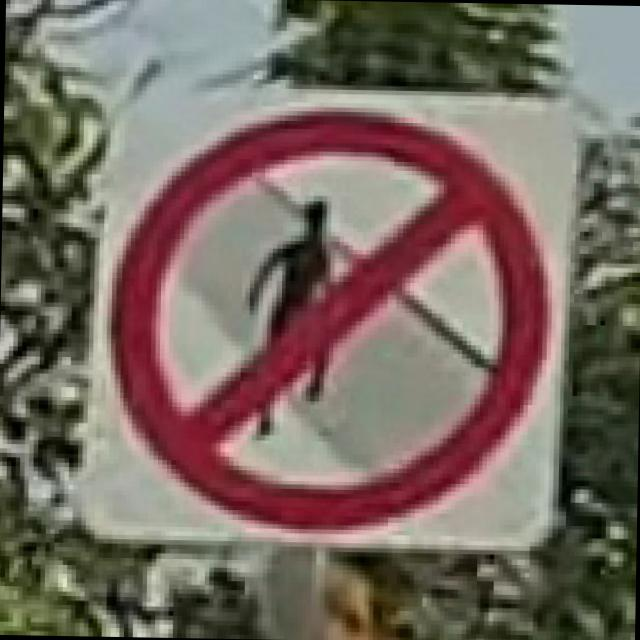nojaywalking_sign: (71, 84, 582, 556)
